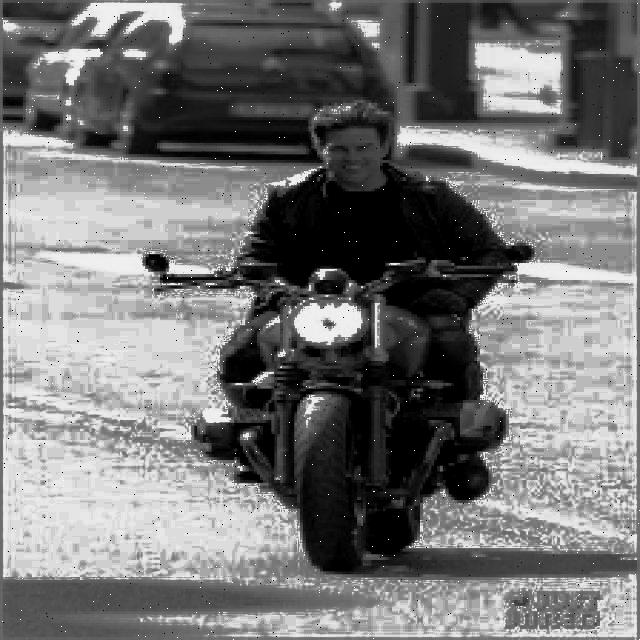Bike: (163, 262, 529, 572)
